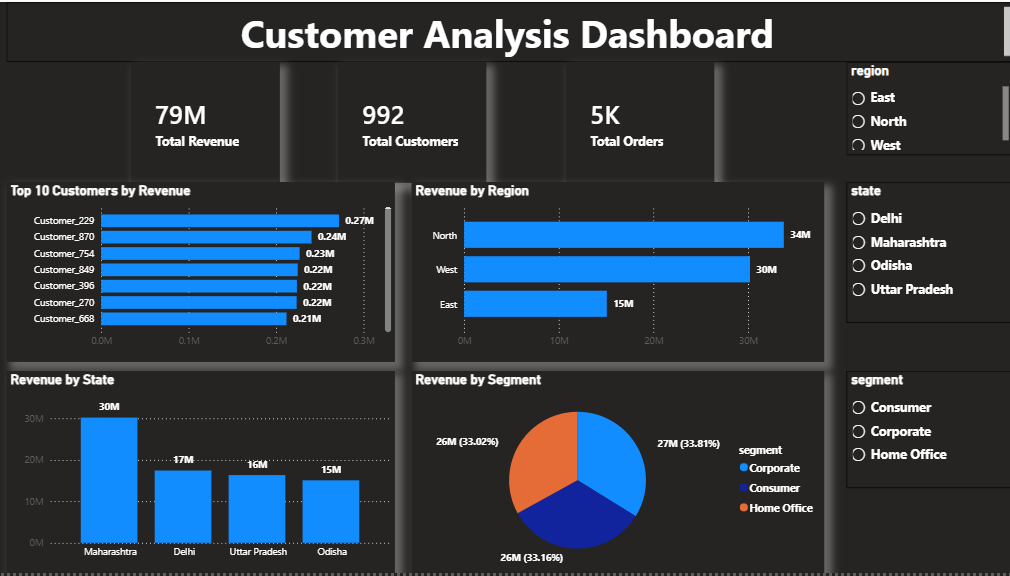

The page's visual inventory and layout, read from the dashboard file:
{"tool":"powerbi","page":{"name":"Customer Analysis","canvas":[1280,720],"ordinal":2},"visuals":[{"type":"textbox","box":[9.6,0,1271.2,75],"z":0},{"type":"cardVisual","fields":{"Data":["customers.Total Revenue"]},"box":[166.3,75.6,187.1,151.2],"z":1000},{"type":"cardVisual","fields":{"Data":["customers.Total Customers"]},"box":[426.9,75,186.5,151.9],"z":2000},{"type":"cardVisual","fields":{"Data":["customers.Total Orders"]},"box":[713.5,75,186.5,151.9],"z":3000},{"type":"clusteredBarChart","title":"Top 10 Customers by Revenue","fields":{"Category":["customers.customer_name"],"Y":["customers.Total Revenue"]},"box":[9.4,226.8,489.5,226.8],"z":4000},{"type":"clusteredBarChart","title":"Revenue by Region","fields":{"Category":["customers.region"],"Y":["customers.Total Revenue"]},"box":[519.7,226.8,519.7,226.8],"z":5000},{"type":"clusteredColumnChart","title":"Revenue by State","fields":{"Category":["customers.state"],"Y":["customers.Total Revenue"]},"box":[9.4,464.9,489.5,255.1],"z":6000},{"type":"pieChart","title":"Revenue by Segment","fields":{"Category":["customers.segment"],"Y":["customers.Total Revenue"]},"box":[519.7,464.9,519.7,255.1],"z":7000},{"type":"listSlicer","fields":{"Values":["customers.region"]},"box":[1067.7,75.6,211.7,117.2],"z":8000},{"type":"listSlicer","fields":{"Values":["customers.state"]},"box":[1067.7,226.8,211.7,177.6],"z":9000},{"type":"listSlicer","fields":{"Values":["customers.segment"]},"box":[1067.7,464.9,211.7,147.4],"z":10000}]}

Visuals, with their boxes in screenshot pixels (x1, y1, x2, y2), scaled from the page's 1280x720 canvas onto the 1010x576 screenshot:
textbox: 8,0,1009,60
cardVisual - customers.Total Revenue: 131,60,279,181
cardVisual - customers.Total Customers: 337,60,484,182
cardVisual - customers.Total Orders: 563,60,710,182
"Top 10 Customers by Revenue" clusteredBarChart: 7,181,394,363
"Revenue by Region" clusteredBarChart: 410,181,820,363
"Revenue by State" clusteredColumnChart: 7,372,394,575
"Revenue by Segment" pieChart: 410,372,820,575
listSlicer - customers.region: 842,60,1009,154
listSlicer - customers.state: 842,181,1009,324
listSlicer - customers.segment: 842,372,1009,490
